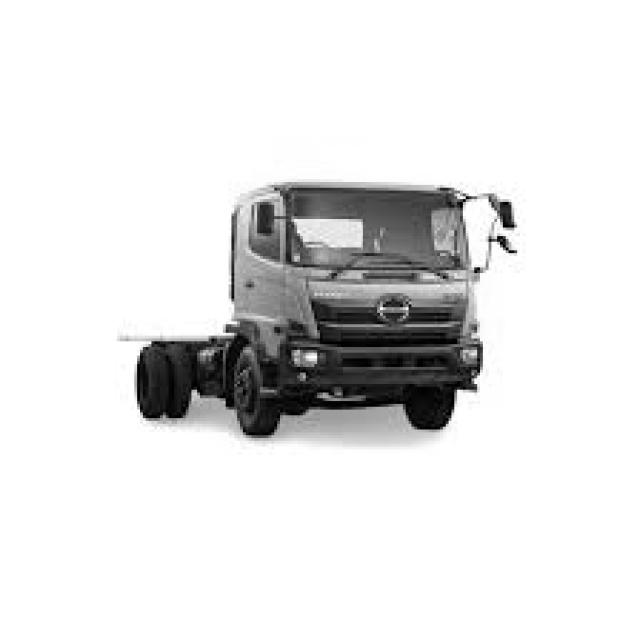truck: (211, 150, 527, 431)
